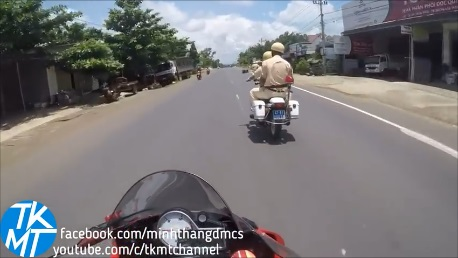police: (245, 42, 302, 144)
